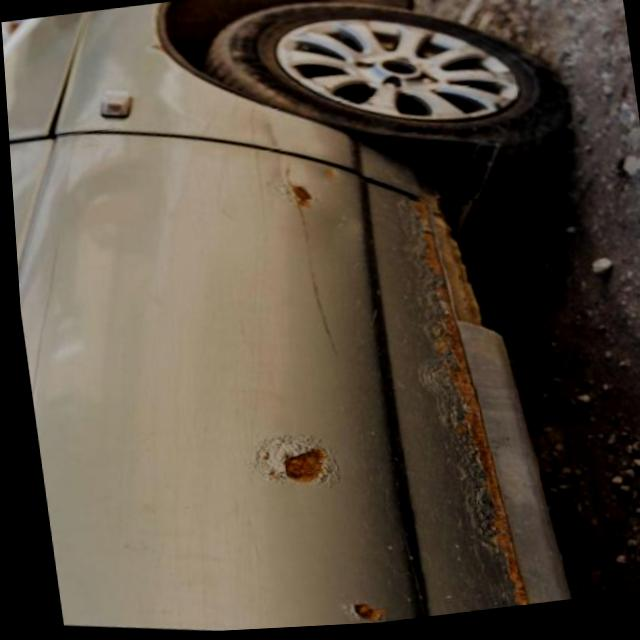Rust: (393, 185, 525, 609), (248, 422, 343, 493), (271, 172, 316, 208), (343, 596, 393, 624), (148, 42, 166, 55), (317, 168, 334, 180)
Scratch: (294, 204, 337, 358)
